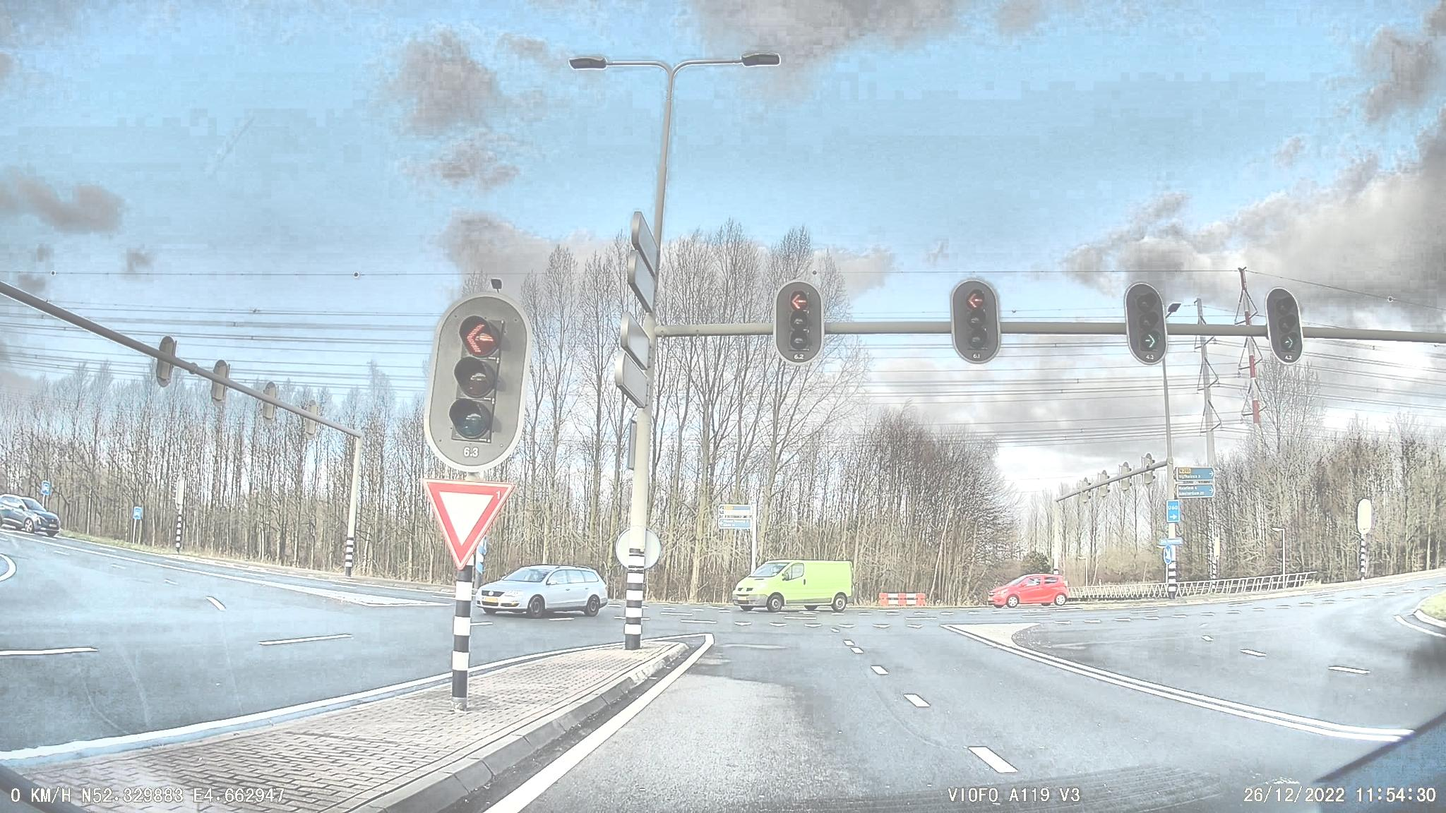Roads: (0, 532, 1446, 813)
